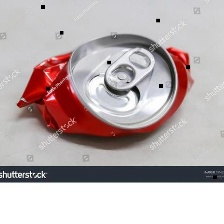can: (10, 31, 200, 140)
